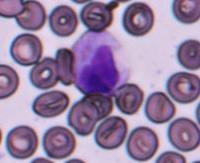M: (70, 29, 130, 95)
